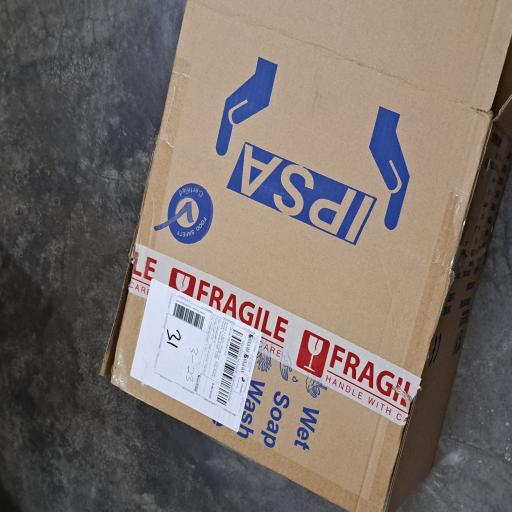cardboard: (0, 127, 384, 512)
